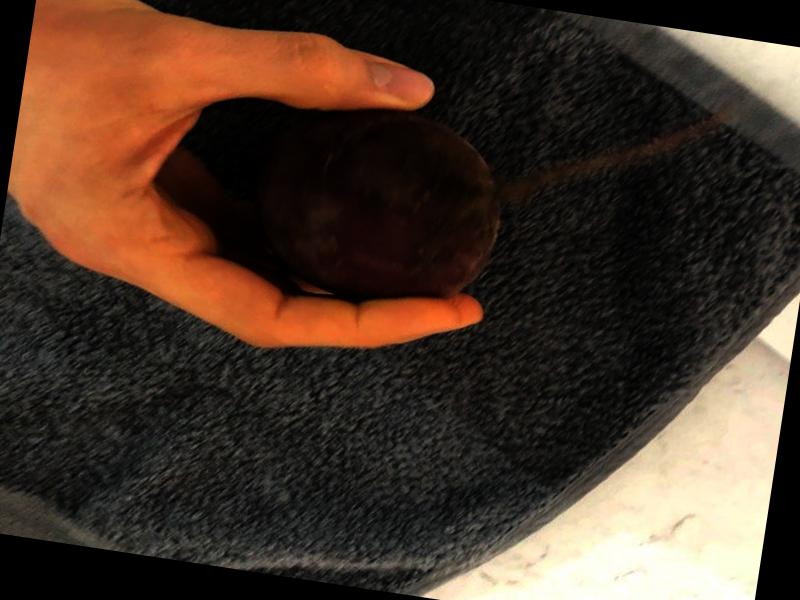Beet: (240, 91, 511, 317)
